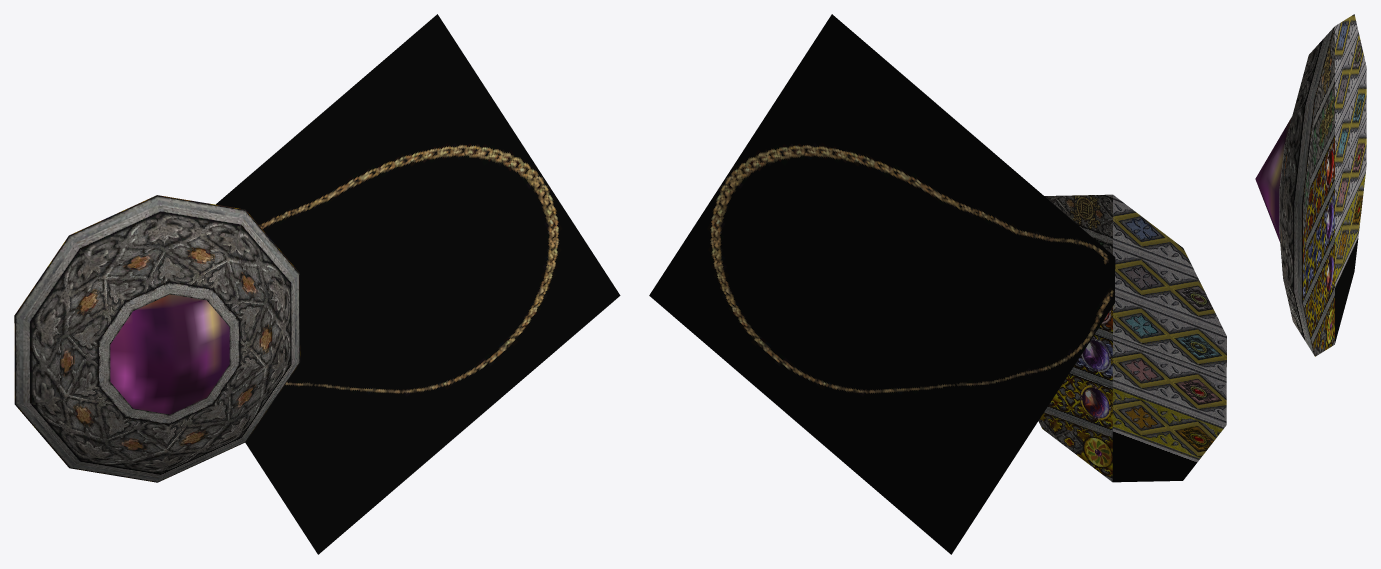
File: ItAm_Strg_01.fbx
The picture shows the model from 3 angles, left to right: view 1: azimuth 30°, elevation 25°; view 2: azimuth 150°, elevation 25°; view 3: azimuth 270°, elevation 25°; orthographic projection. The views are drawn at different scales.
Parts seen in each view (by area): view 1: Cylinder02; view 2: Cylinder02; view 3: Cylinder02.
Boxes of the visible parts, box(x1,y1,x2,y2) form: Cylinder02: box(14, 14, 620, 554); Cylinder02: box(649, 14, 1226, 554); Cylinder02: box(1255, 14, 1366, 356).
Size of the model in its own units: 18.34 by 15.15 by 2.7.
